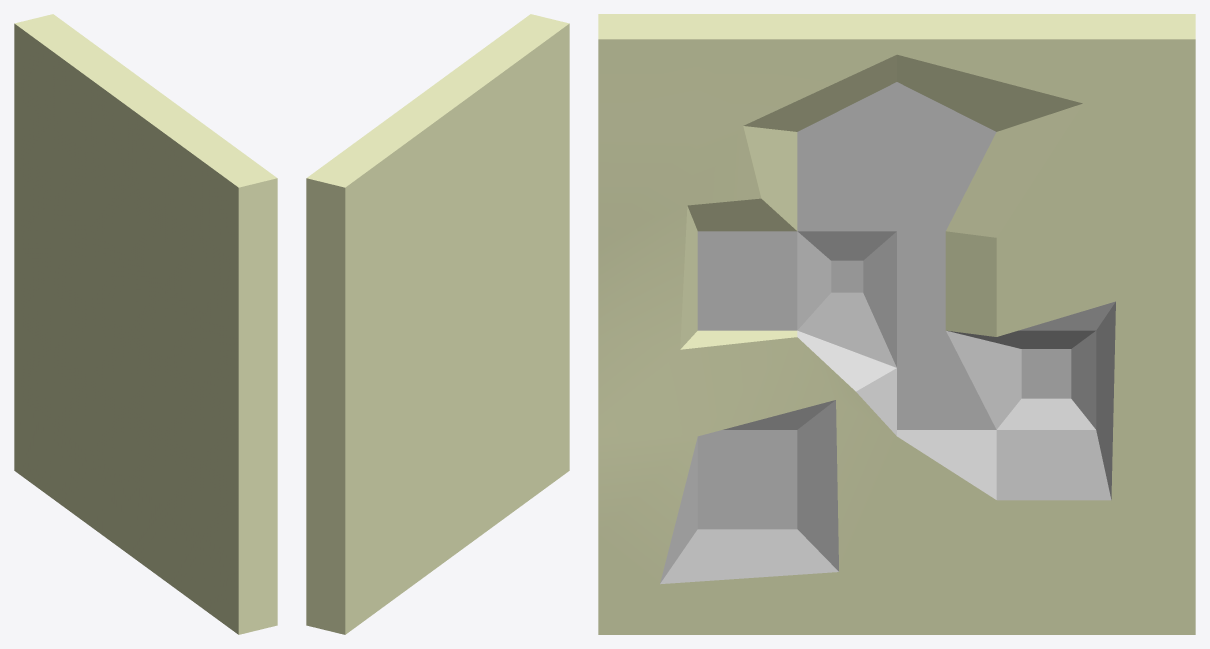
The model's file is SM_Wallplastered.fbx.
3 views of the same model, side by side, from view 1: azimuth 30°, elevation 25°; view 2: azimuth 150°, elevation 25°; view 3: azimuth 270°, elevation 25° (orthographic). The views are drawn at different scales.
Parts seen in each view (by area): view 1: SM_BaceWall4; view 2: SM_BaceWall4; view 3: SM_BaceWall4.
Part boxes in pixels (bbox=[...]): SM_BaceWall4: bbox=[14, 14, 277, 634]; SM_BaceWall4: bbox=[306, 14, 569, 634]; SM_BaceWall4: bbox=[598, 14, 1195, 634].
Bounding box in the file's own units: 0.00204 × 0.022 × 0.02.
